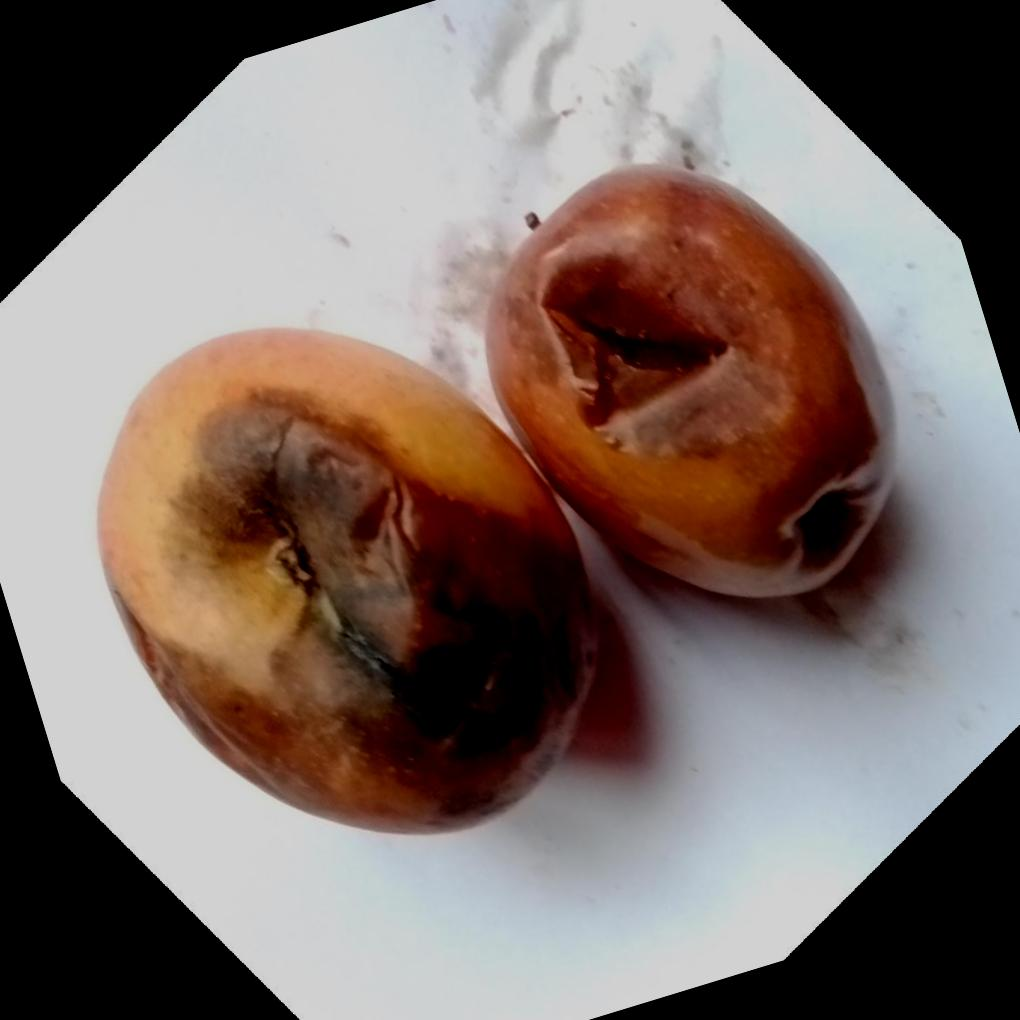FreshOrange: (90, 165, 895, 837)
